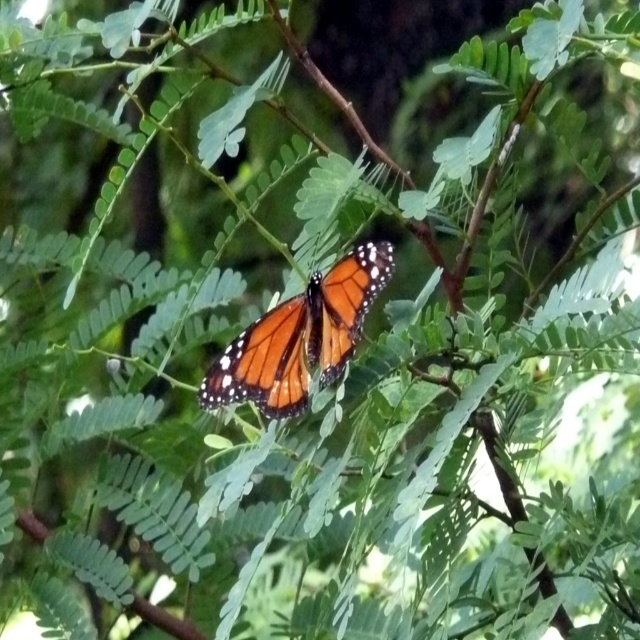Butterfly: (198, 231, 383, 429)
